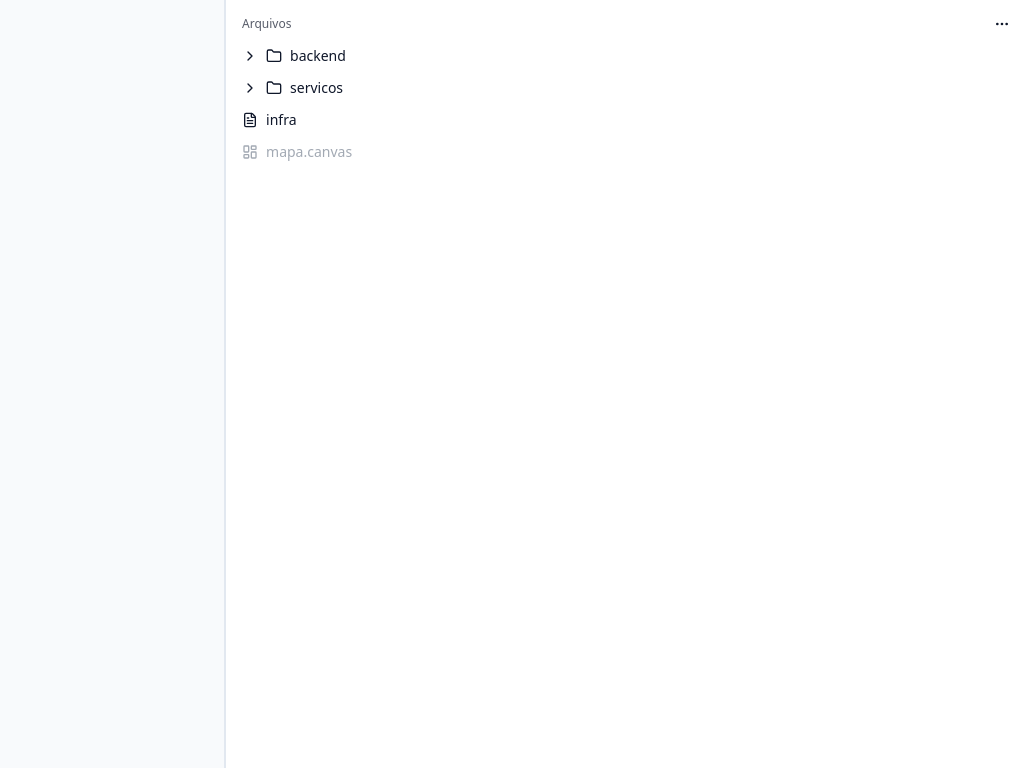
Test: mover › CA-NOTA-011-01 — mover para pasta que já tem nota com o mesmo nome é bloqueado
Click the button "backend".
click(318, 56)  # box [234,40,1016,72]
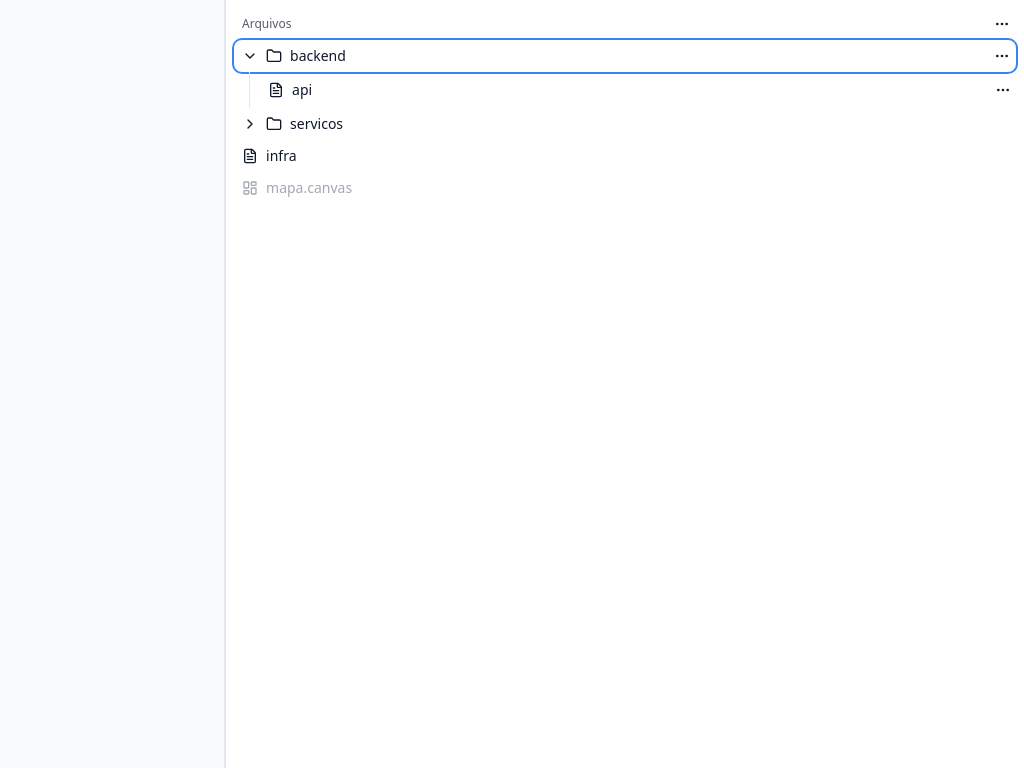
Click the button named "Ações de api".
click(1003, 90)  # box [993,80,1013,100]
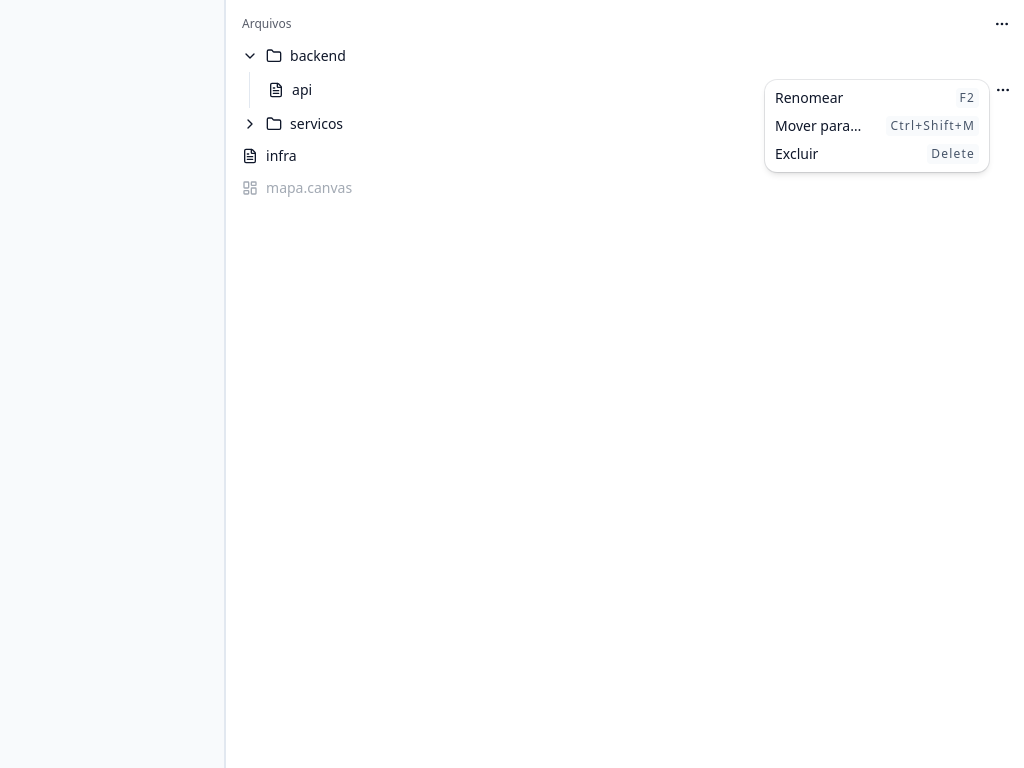
Click the menu item "Mover para… Ctrl+Shift+M".
click(818, 126)  # box [769,112,985,140]
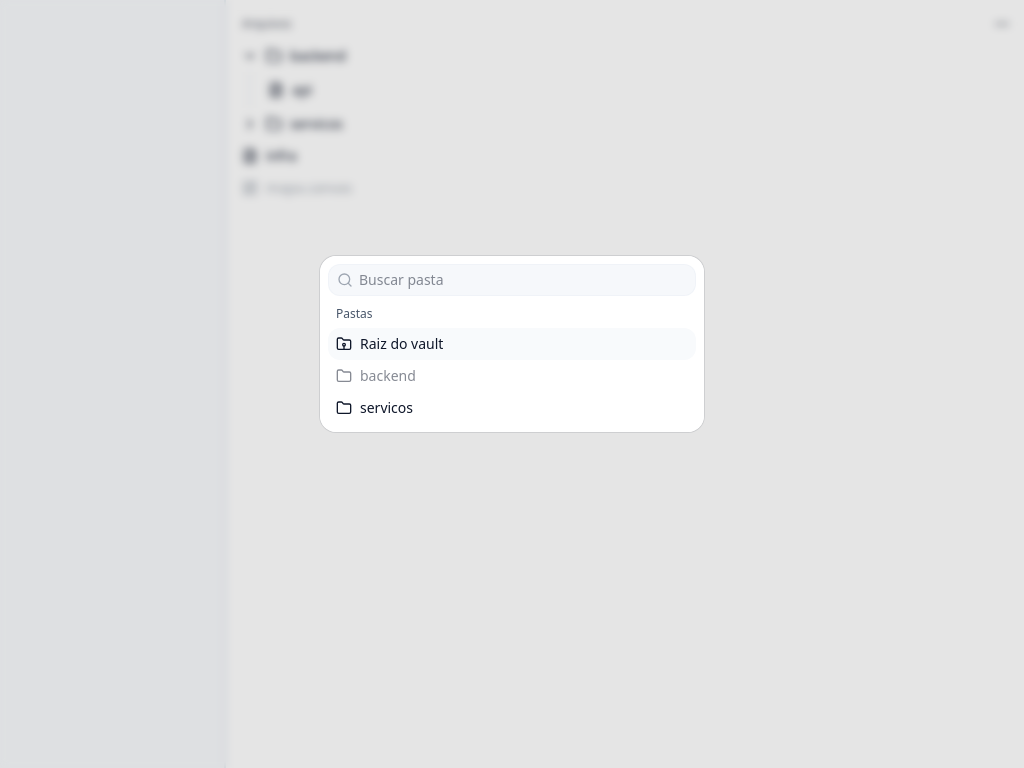
Click the option "servicos".
click(374, 408)  # box [336,398,413,417]
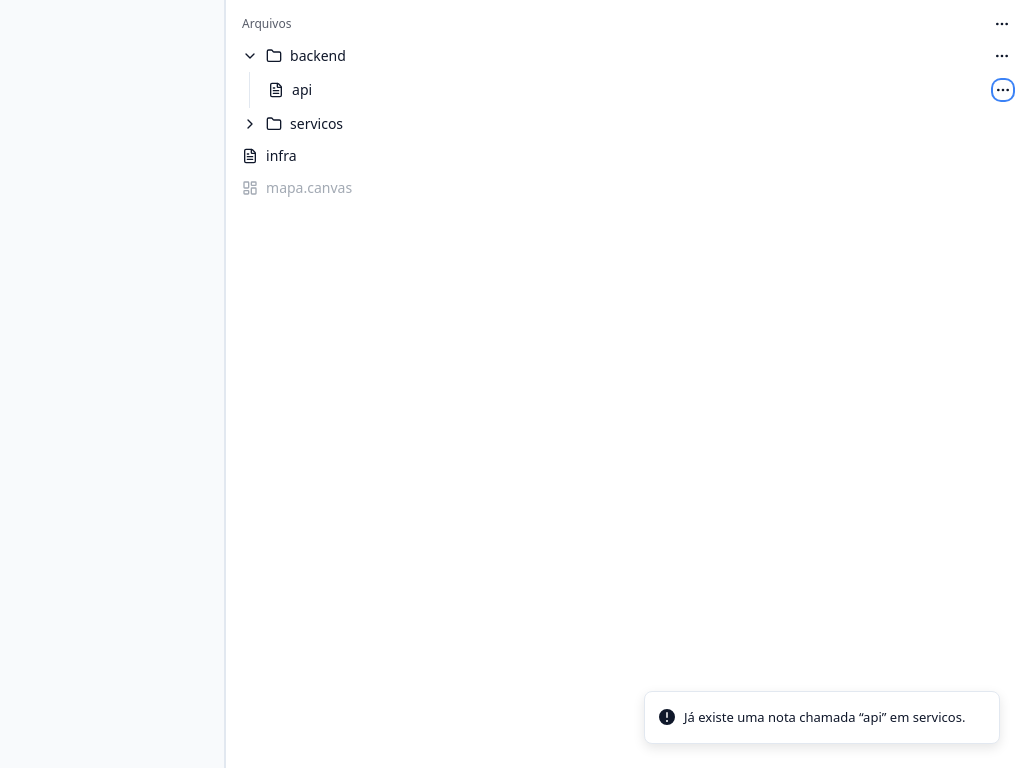
Now the text "Já existe uma nota chamada “api” em servicos." is shown, box [684,708,965,727]
